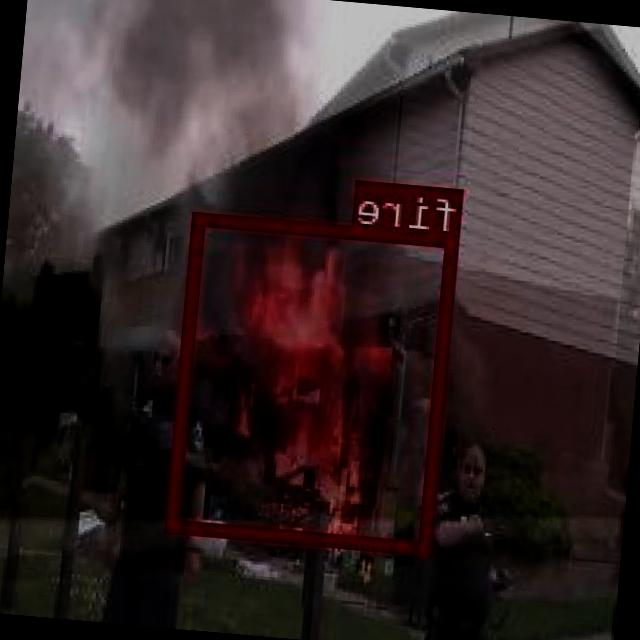fire: (170, 210, 460, 552)
